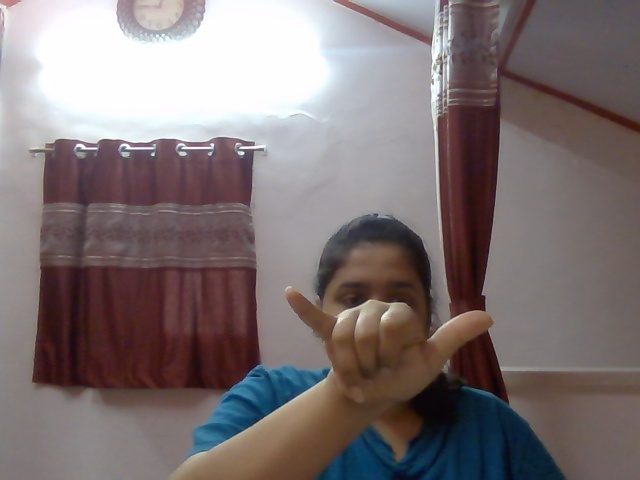y: (262, 279, 542, 413)
